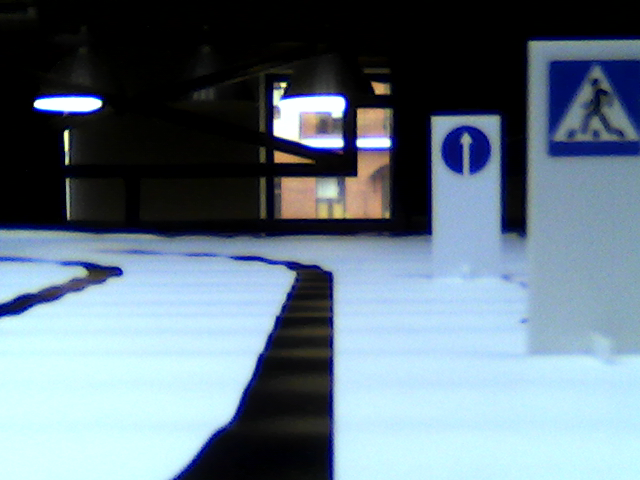forw: (440, 124, 497, 177)
pesh: (544, 54, 639, 159)
